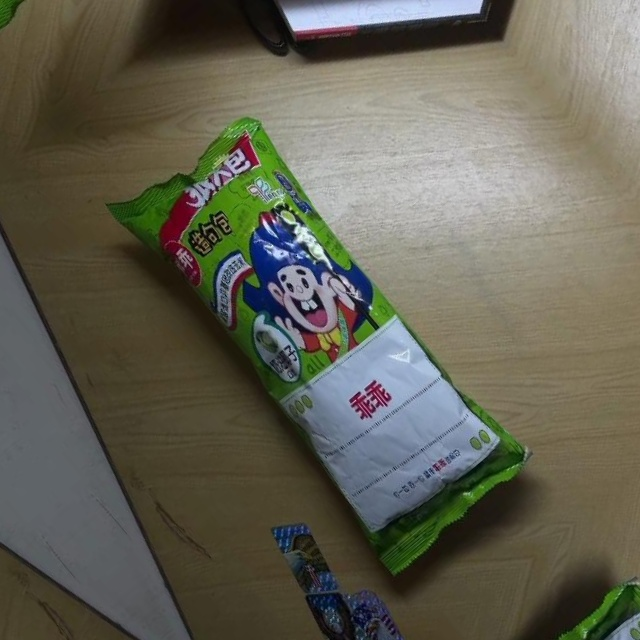Good-Luck: (86, 95, 540, 584)
